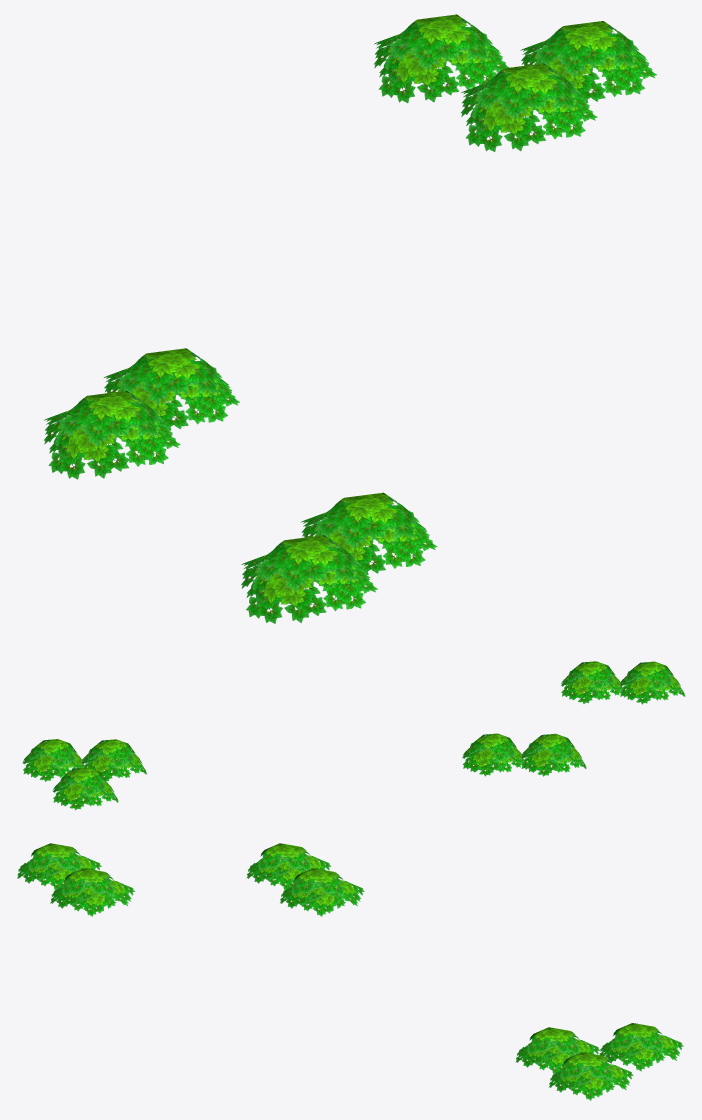
File: arbustos_meta_all_one_LowPoly.fbx
The picture shows the model from 3 angles, top to bottom: view 1: azimuth 30°, elevation 25°; view 2: azimuth 150°, elevation 25°; view 3: azimuth 270°, elevation 25°; orthographic projection. The views are drawn at different scales.
Parts seen in each view (by area): view 1: arbusto_meta_all_LowPoly; view 2: arbusto_meta_all_LowPoly; view 3: arbusto_meta_all_LowPoly.
Boxes of the visible parts, bbox=[...] form: arbusto_meta_all_LowPoly: bbox=[44, 14, 656, 623]; arbusto_meta_all_LowPoly: bbox=[22, 661, 685, 810]; arbusto_meta_all_LowPoly: bbox=[17, 843, 683, 1100].
Size of the model in its own units: 1.86 by 0.1139 by 2.14.
1 material, 1 textured.
